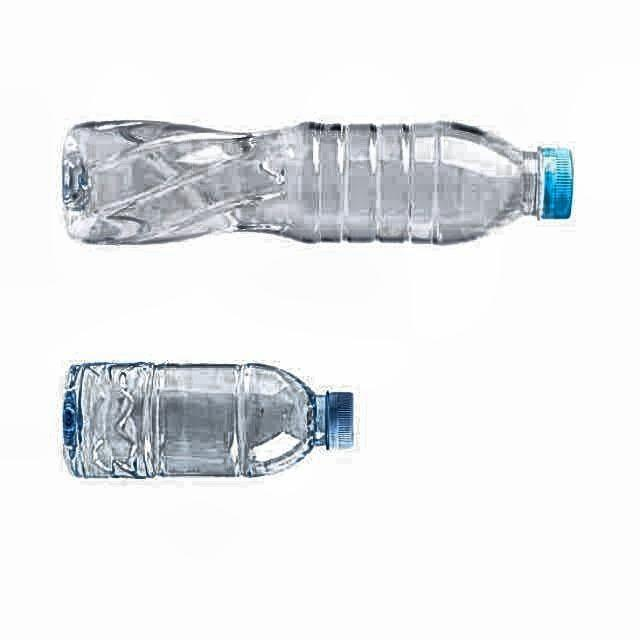plastic: (62, 121, 572, 244), (63, 364, 353, 477)
